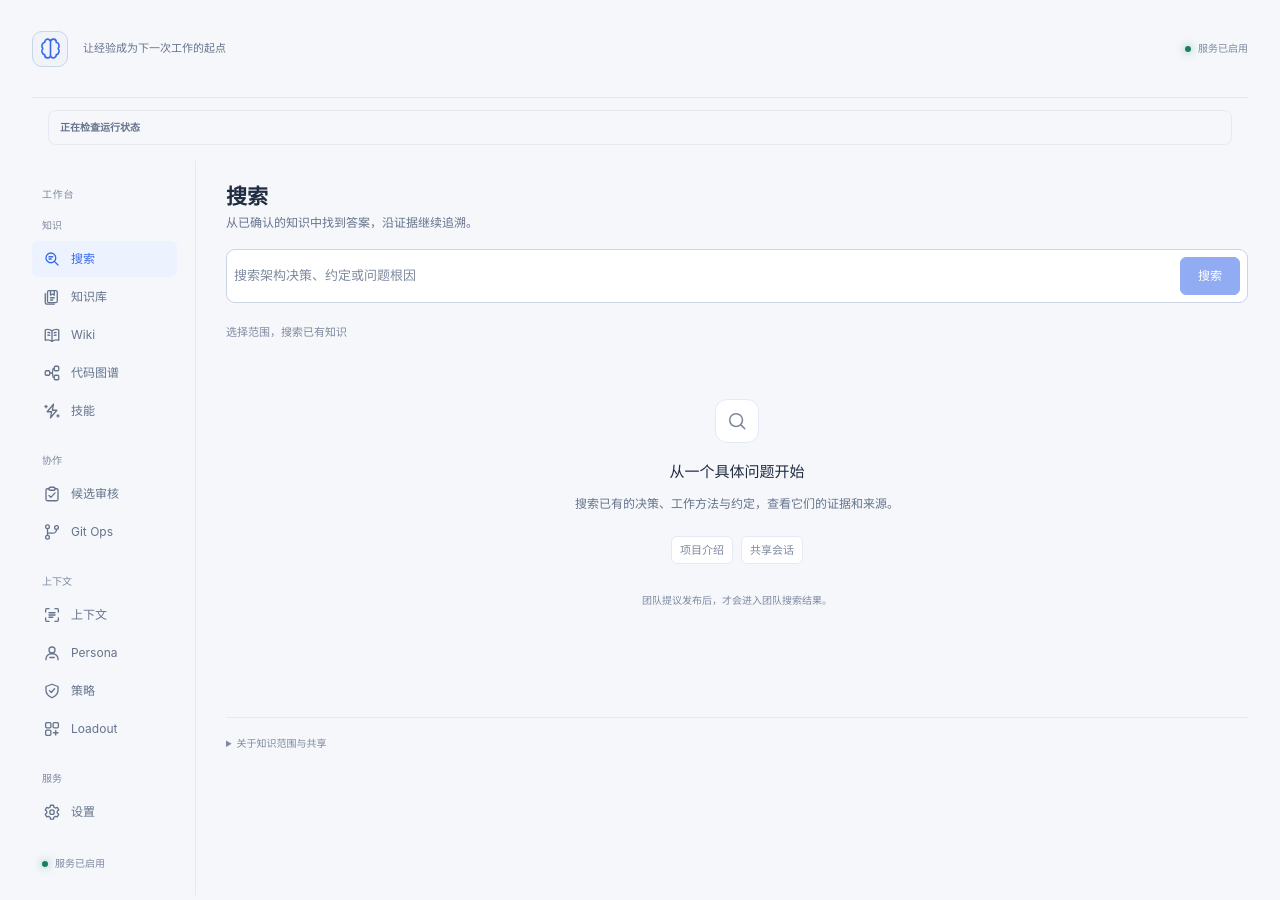
Test: MemoryView › Skills navigation renders the scope-aware governance workspace
Click the tab with test id "memory-tab-skills". click: click(104, 411)
box: [32,393,177,429]
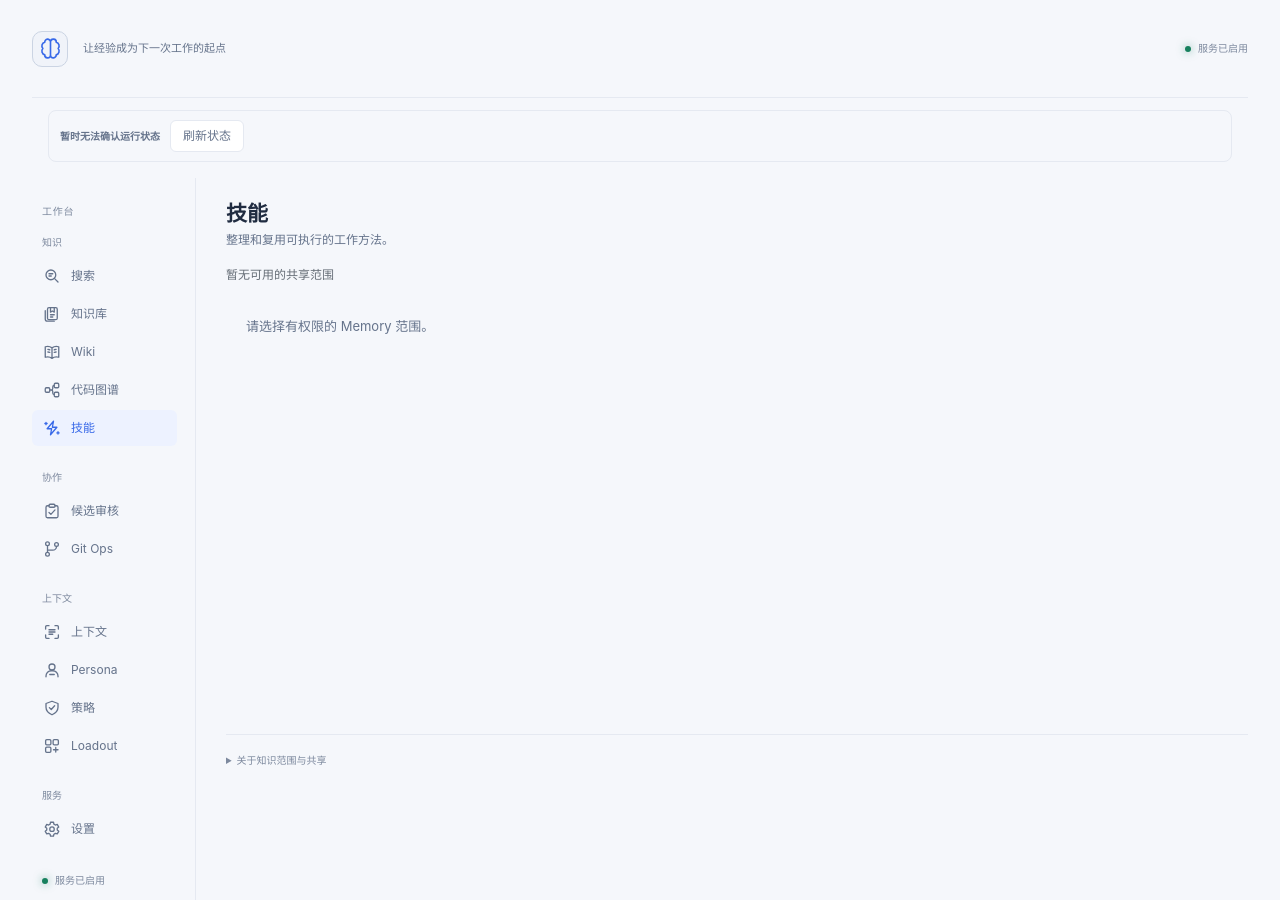
Now the element with test id "memory-skills-panel" is shown, box [246,318,434,334]
